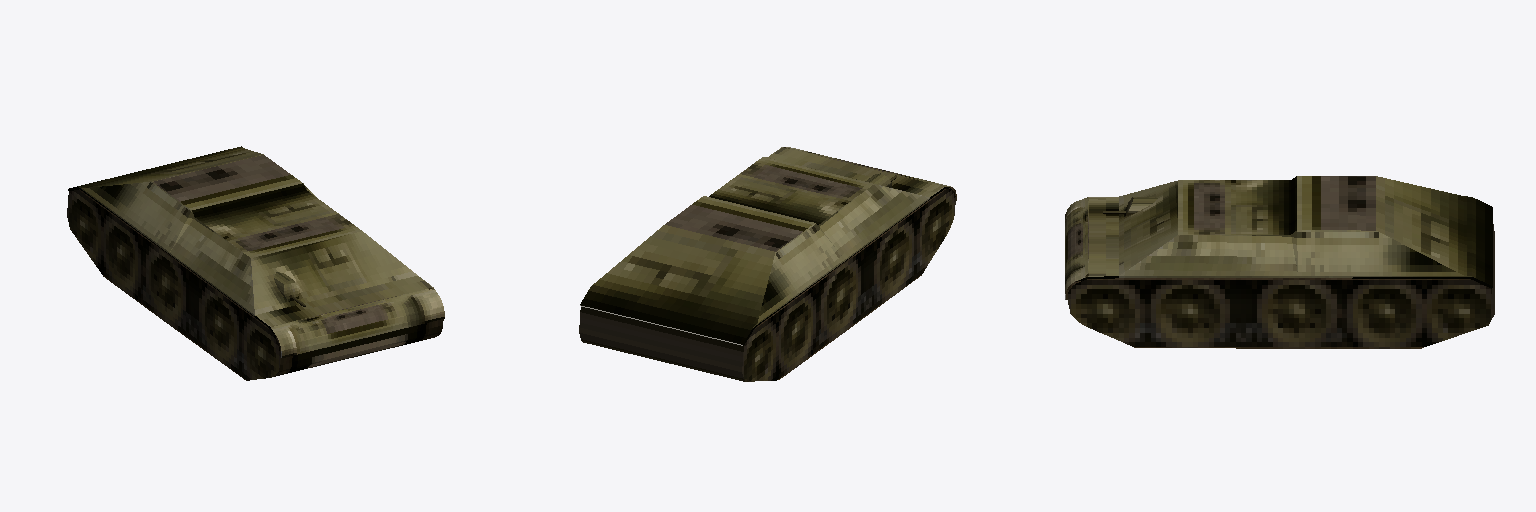
3 renders of one model, left to right at view 1: azimuth 30°, elevation 25°; view 2: azimuth 150°, elevation 25°; view 3: azimuth 270°, elevation 25°, orthographic.
Parts seen in each view (by area): view 1: Cube; view 2: Cube; view 3: Cube.
Boxes of the visible parts, x1=… form: Cube: x1=67, y1=146, x2=444, y2=380; Cube: x1=579, y1=147, x2=956, y2=381; Cube: x1=1065, y1=176, x2=1494, y2=348.
Size of the model in its own units: 2 by 1.24 by 4.57.
1 materials, 1 textured.